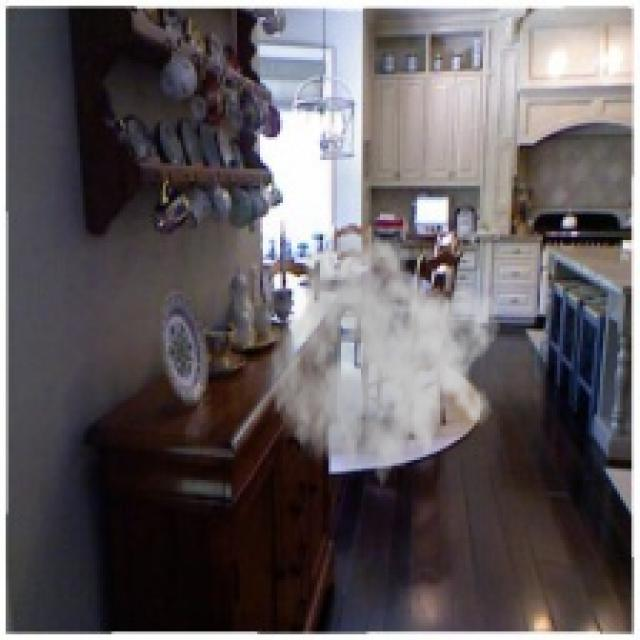smoke: (268, 220, 503, 503)
